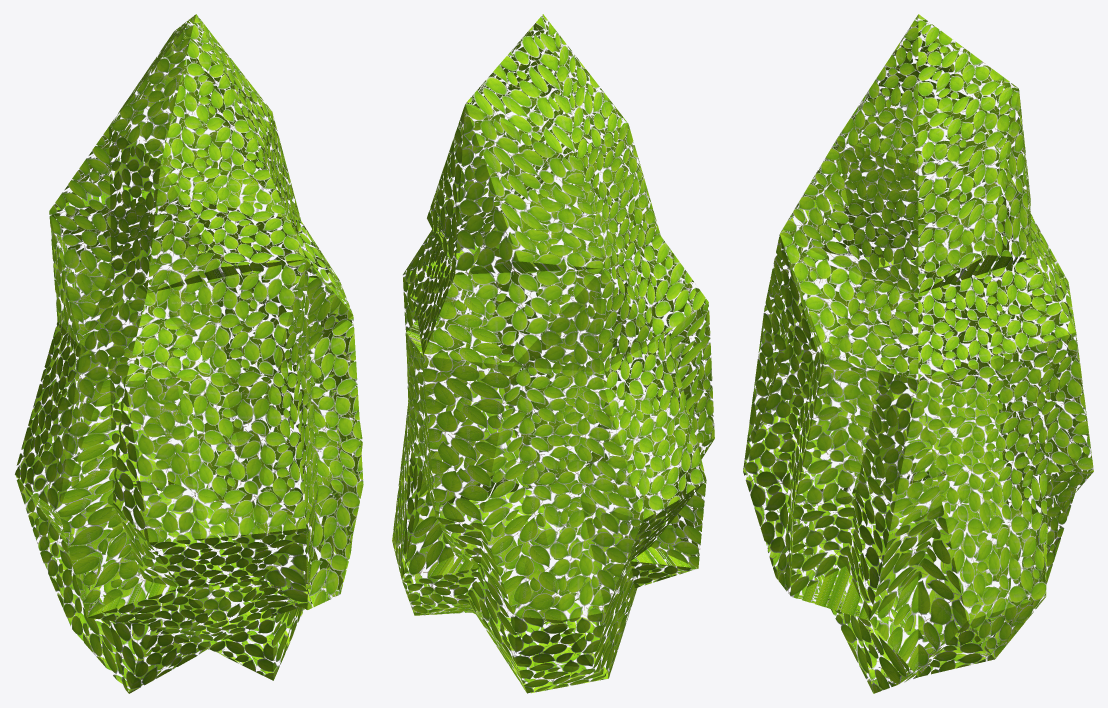
The model's file is treeFoliage.obj.
3 renders of one model, left to right at view 1: azimuth 30°, elevation 25°; view 2: azimuth 150°, elevation 25°; view 3: azimuth 270°, elevation 25°, orthographic. The views are drawn at different scales.
Bounding box in the file's own units: 2.48 × 5.18 × 2.52.
